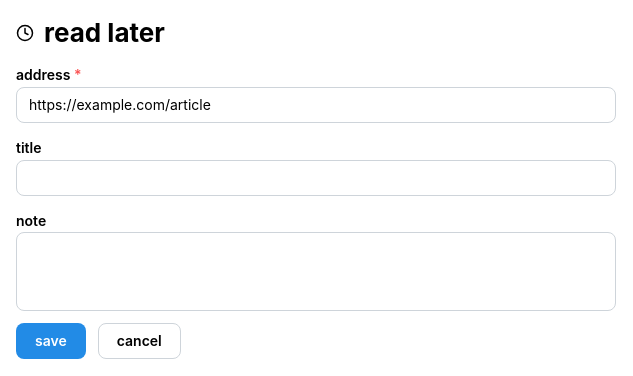
Test: SaveArticleForm › confirms in place instead of navigating away in the bookmarklet popup
The image size is (633, 376).
What coordinates should you click on to do the following:
click the button "save"
I would click on:
 (51, 340)
Its box is x1=16 y1=322 x2=86 y2=358.
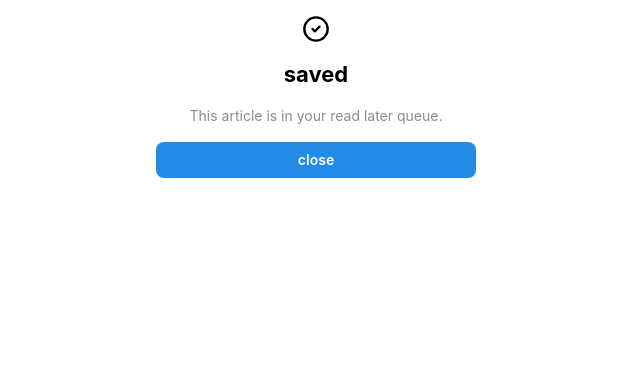
Expected: the heading "saved" is shown, x1=284 y1=59 x2=348 y2=90
Expected: the button "close" is shown, x1=156 y1=142 x2=476 y2=178
Expected: the label labelled "address" is gone
